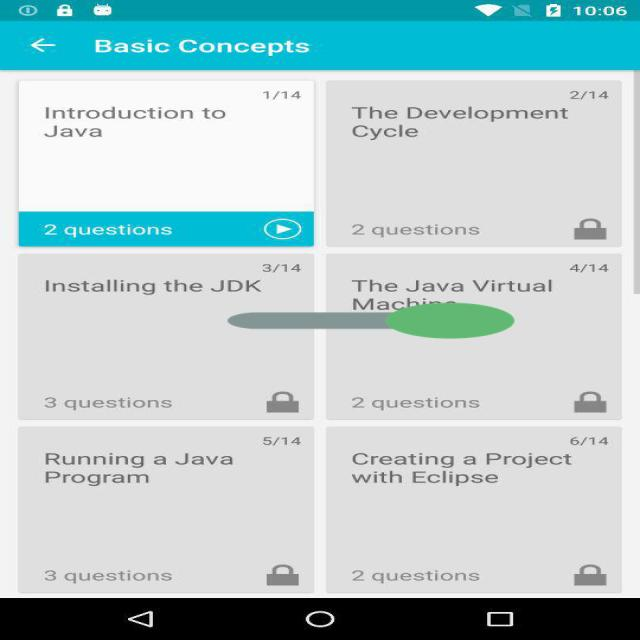social proof: (228, 280, 514, 360)
